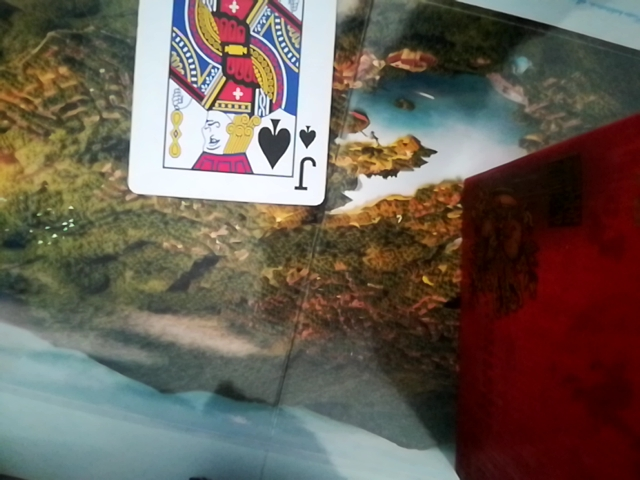ht j: (127, 4, 351, 213)
